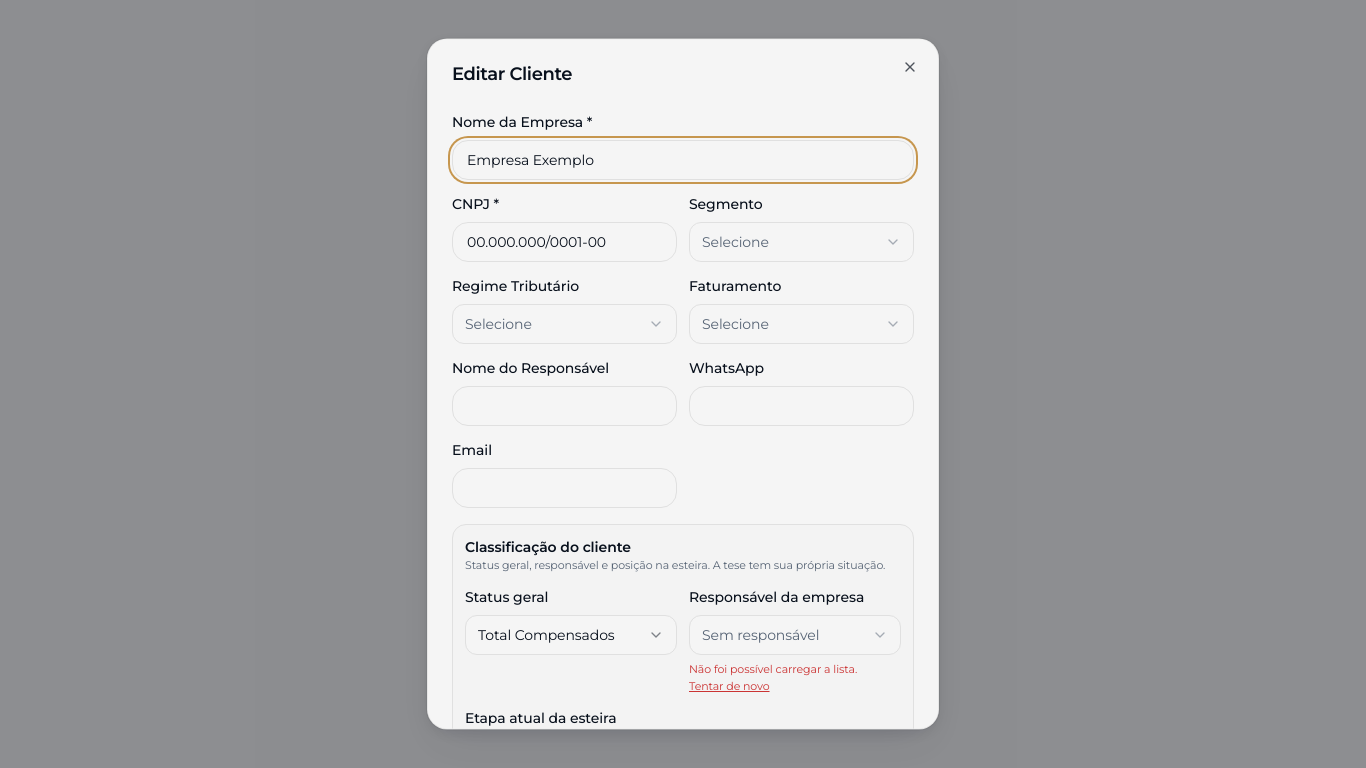
Scenario: lista de responsáveis no Editar Cliente › quando a consulta falha, avisa e oferece nova tentativa em vez de lista vazia
Expected: the text "Não foi possível carregar a lista. Tentar de novo" is shown, [689,662,857,694]
What coordinates should you click on to do the following:
click the button "Tentar de novo"
I would click on:
 (729, 686)
Its box is [689,678,770,694].
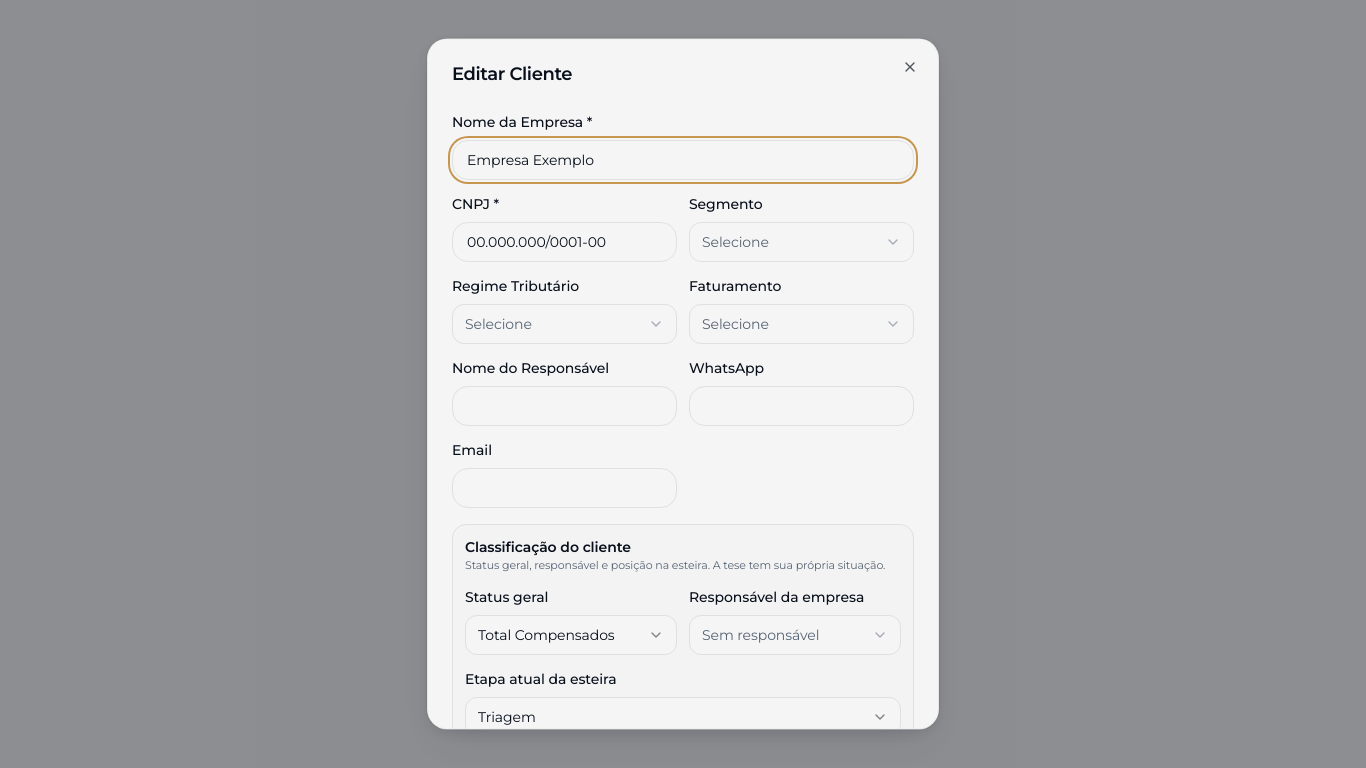
What coordinates should you click on to do the following:
click the dropdown named "Responsável da empresa"
I would click on:
 (795, 635)
Its box is [689,615,901,655].
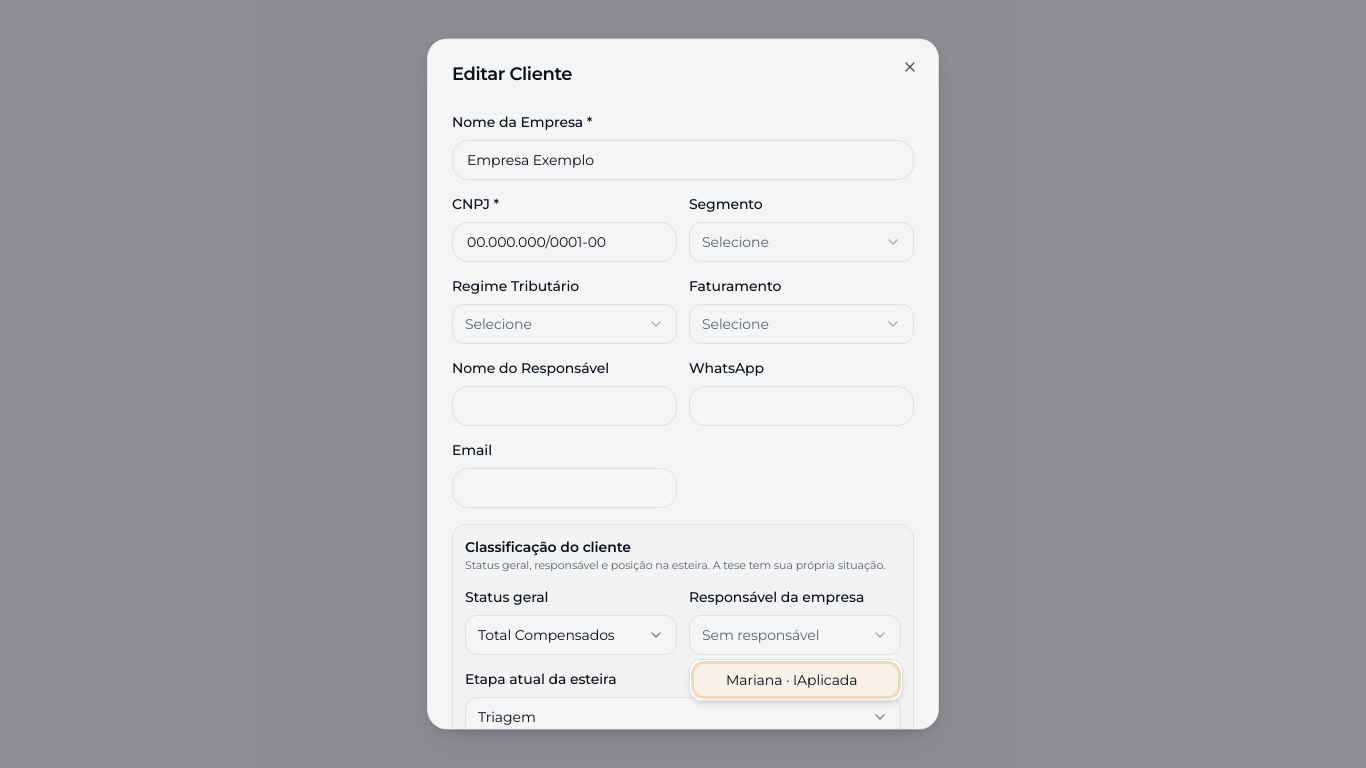
Expected: the option "Mariana · IAplicada" is shown, [694,664,898,696]
